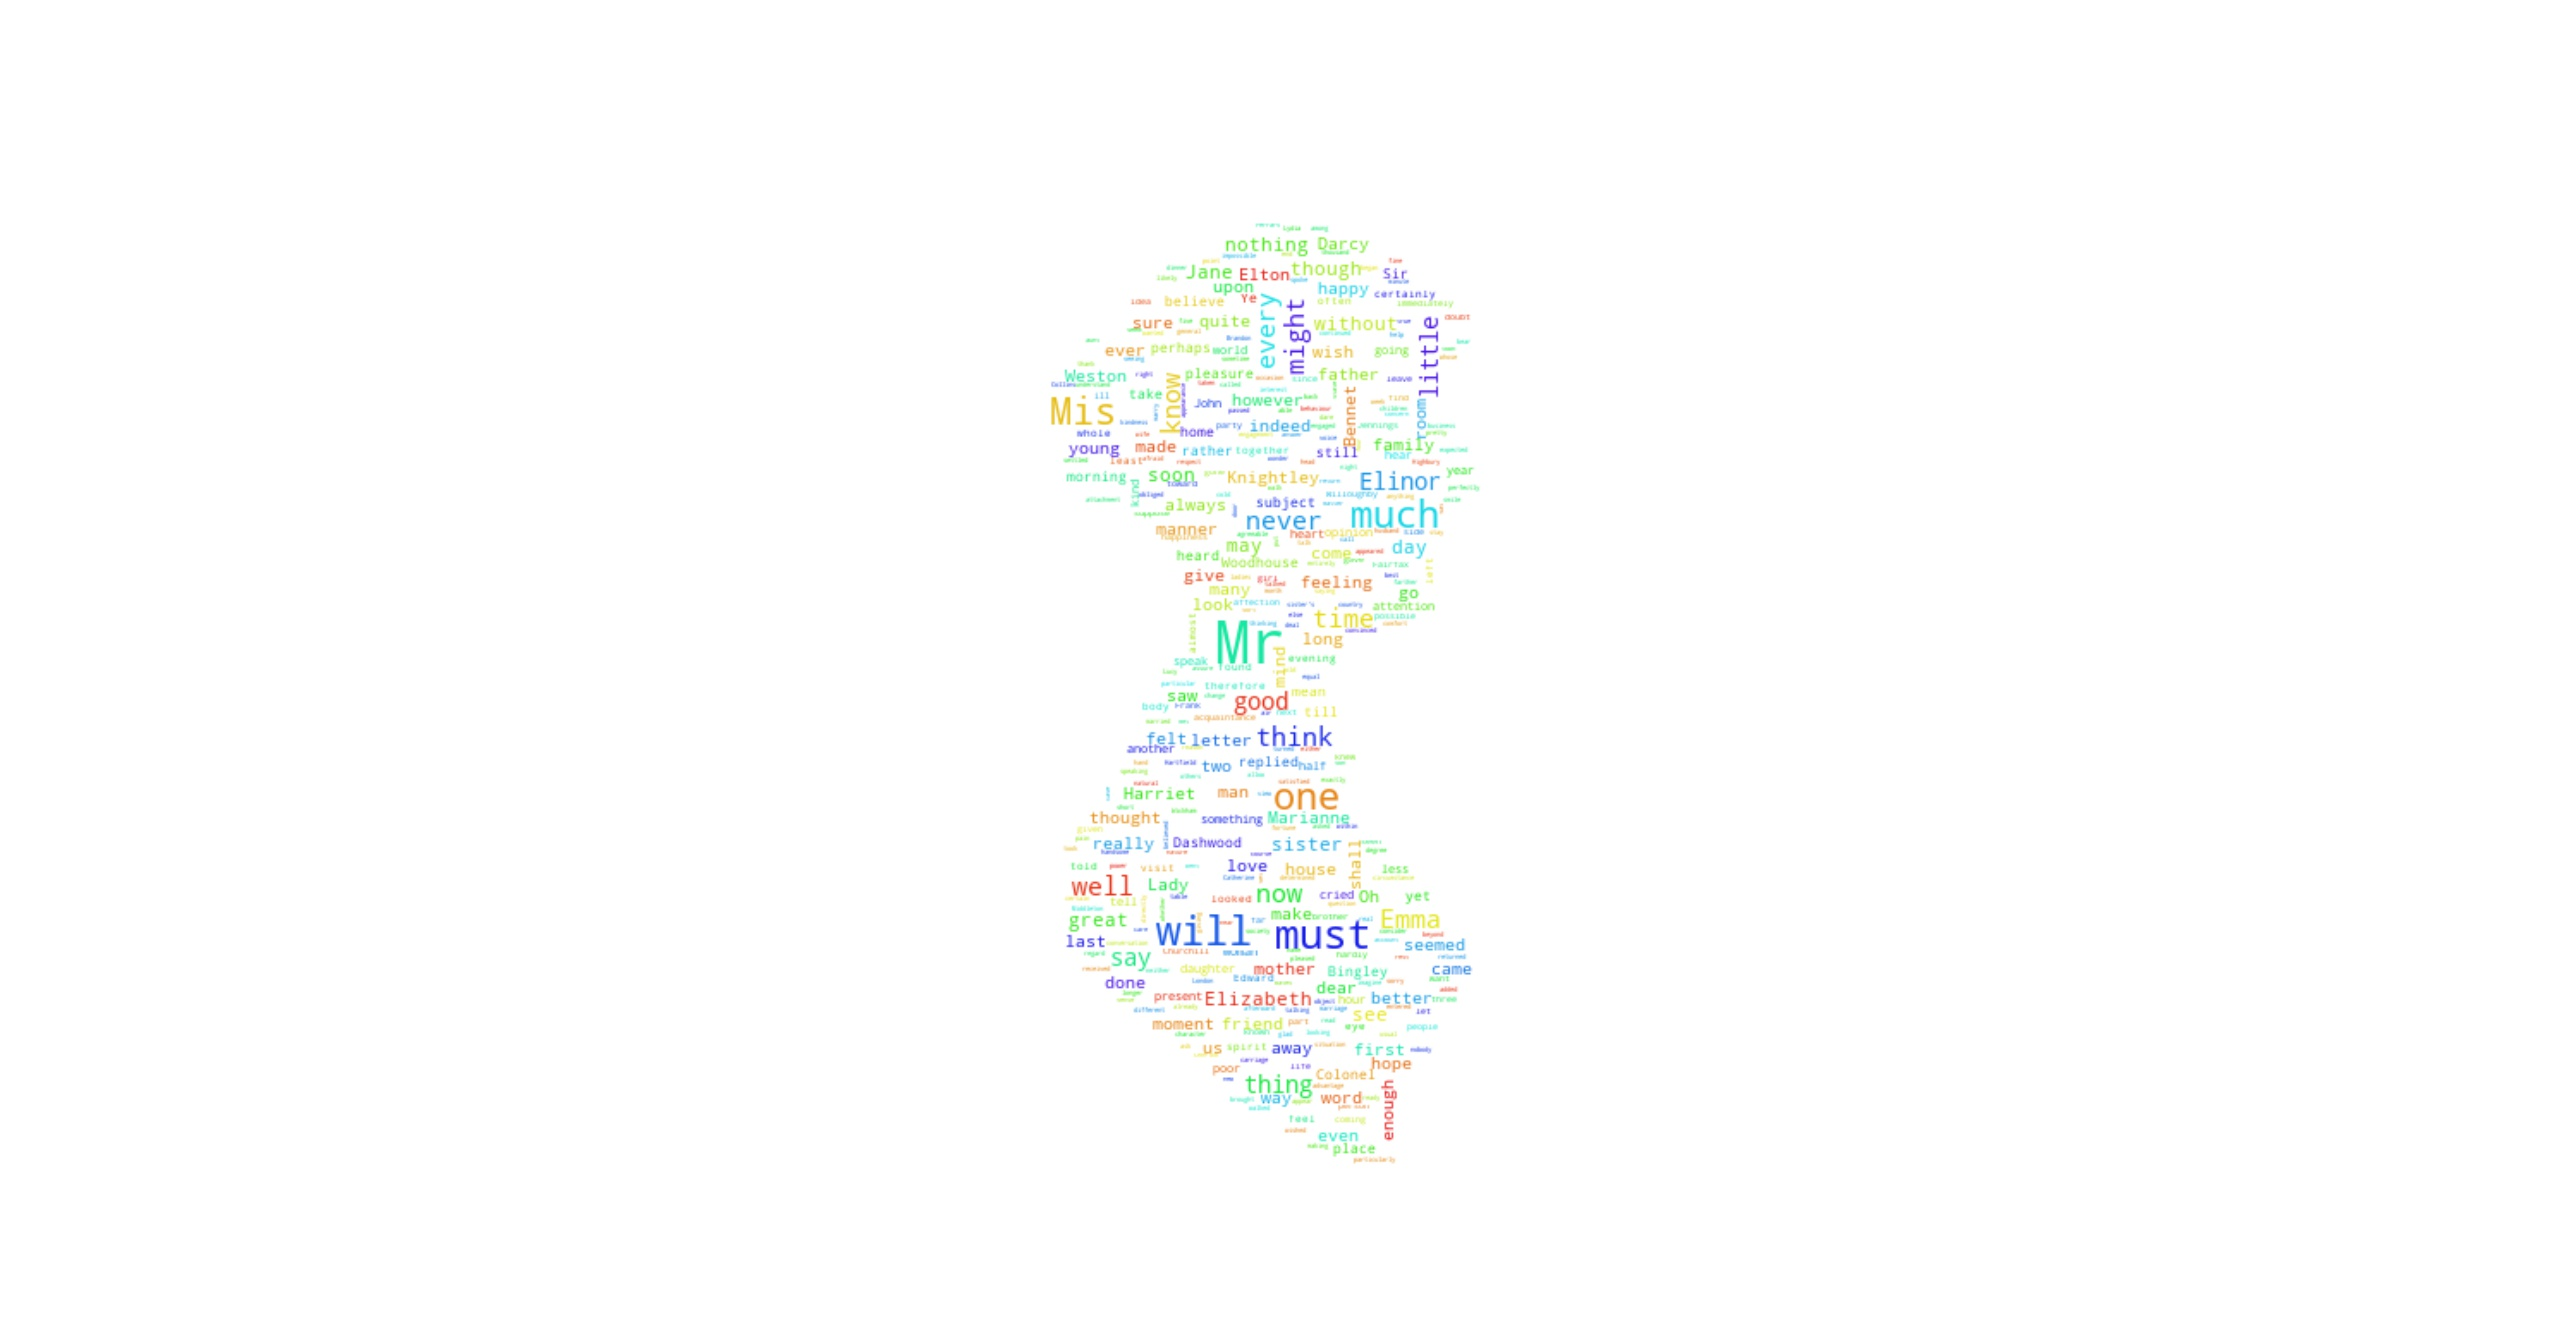

Layout of this report page (visuals, bound fields, positions):
{"tool":"tableau","page":{"name":"Dashboard 1","canvas":[1000,800],"ordinal":0},"visuals":[{"type":"worksheet","title":"Sheet 2","mark":"Circle","box":[0,0,420,800]},{"type":"worksheet","title":"Sheet 1","mark":"Circle","box":[420,0,420,800]},{"type":"legend","title":"Sheet 2","param":"[federated.04id06k0r0qn6o1epfiiu1t74m8r].[none:country_txt:nk]","box":[840,0,160,710]},{"type":"filter","title":"Sheet 1","param":"[federated.04id06k0r0qn6o1epfiiu1t74m8r].[none:iyear:qk]","box":[840,710,160,69]}]}

Visuals, with their boxes on the page's 1000x800 design canvas (x1, y1, x2, y2). These are canvas units, not pixel positions in the 2560x1338 screenshot, which may show the page scaled, cropped or inside an application window:
"Sheet 2" worksheet (Circle marks): x1=0, y1=0, x2=420, y2=800
"Sheet 1" worksheet (Circle marks): x1=420, y1=0, x2=840, y2=800
"Sheet 2" legend: x1=840, y1=0, x2=1000, y2=710
"Sheet 1" filter: x1=840, y1=710, x2=1000, y2=779
